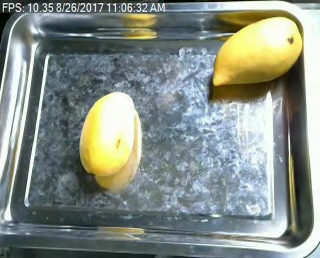Mango: (204, 9, 309, 94), (77, 85, 140, 175)
